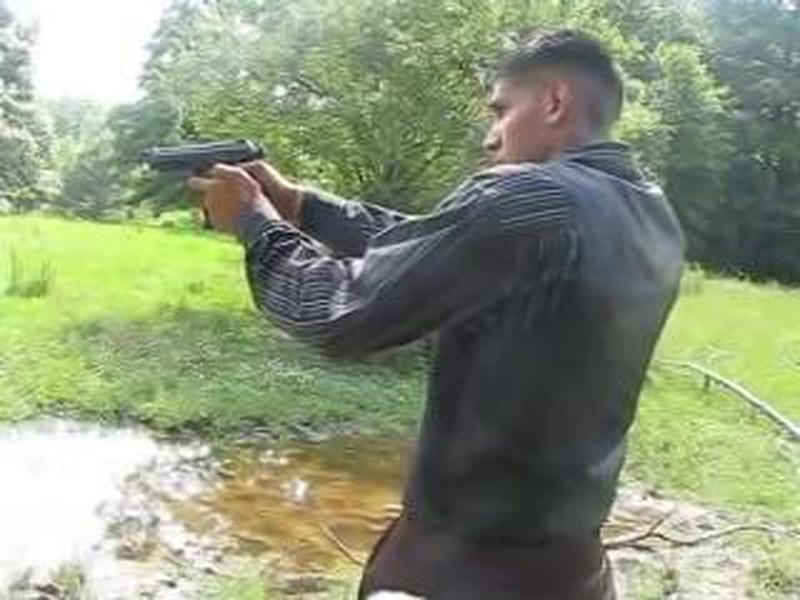Pistola: (146, 134, 287, 242)
